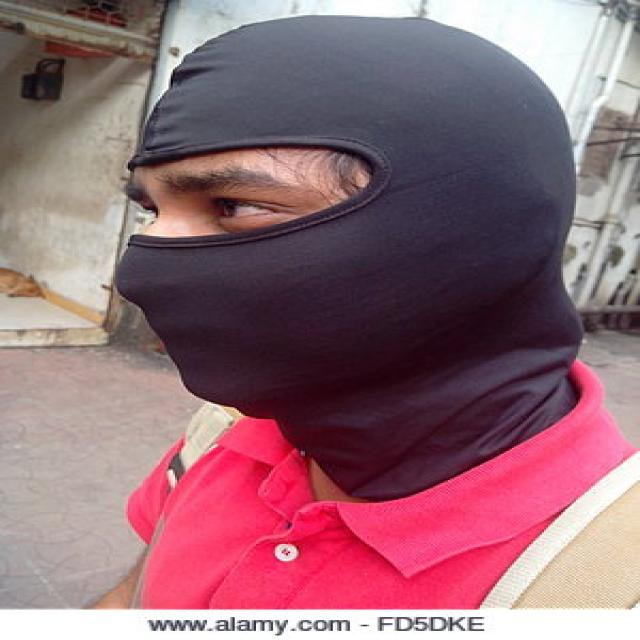6_pasamontana: (109, 14, 582, 500)
